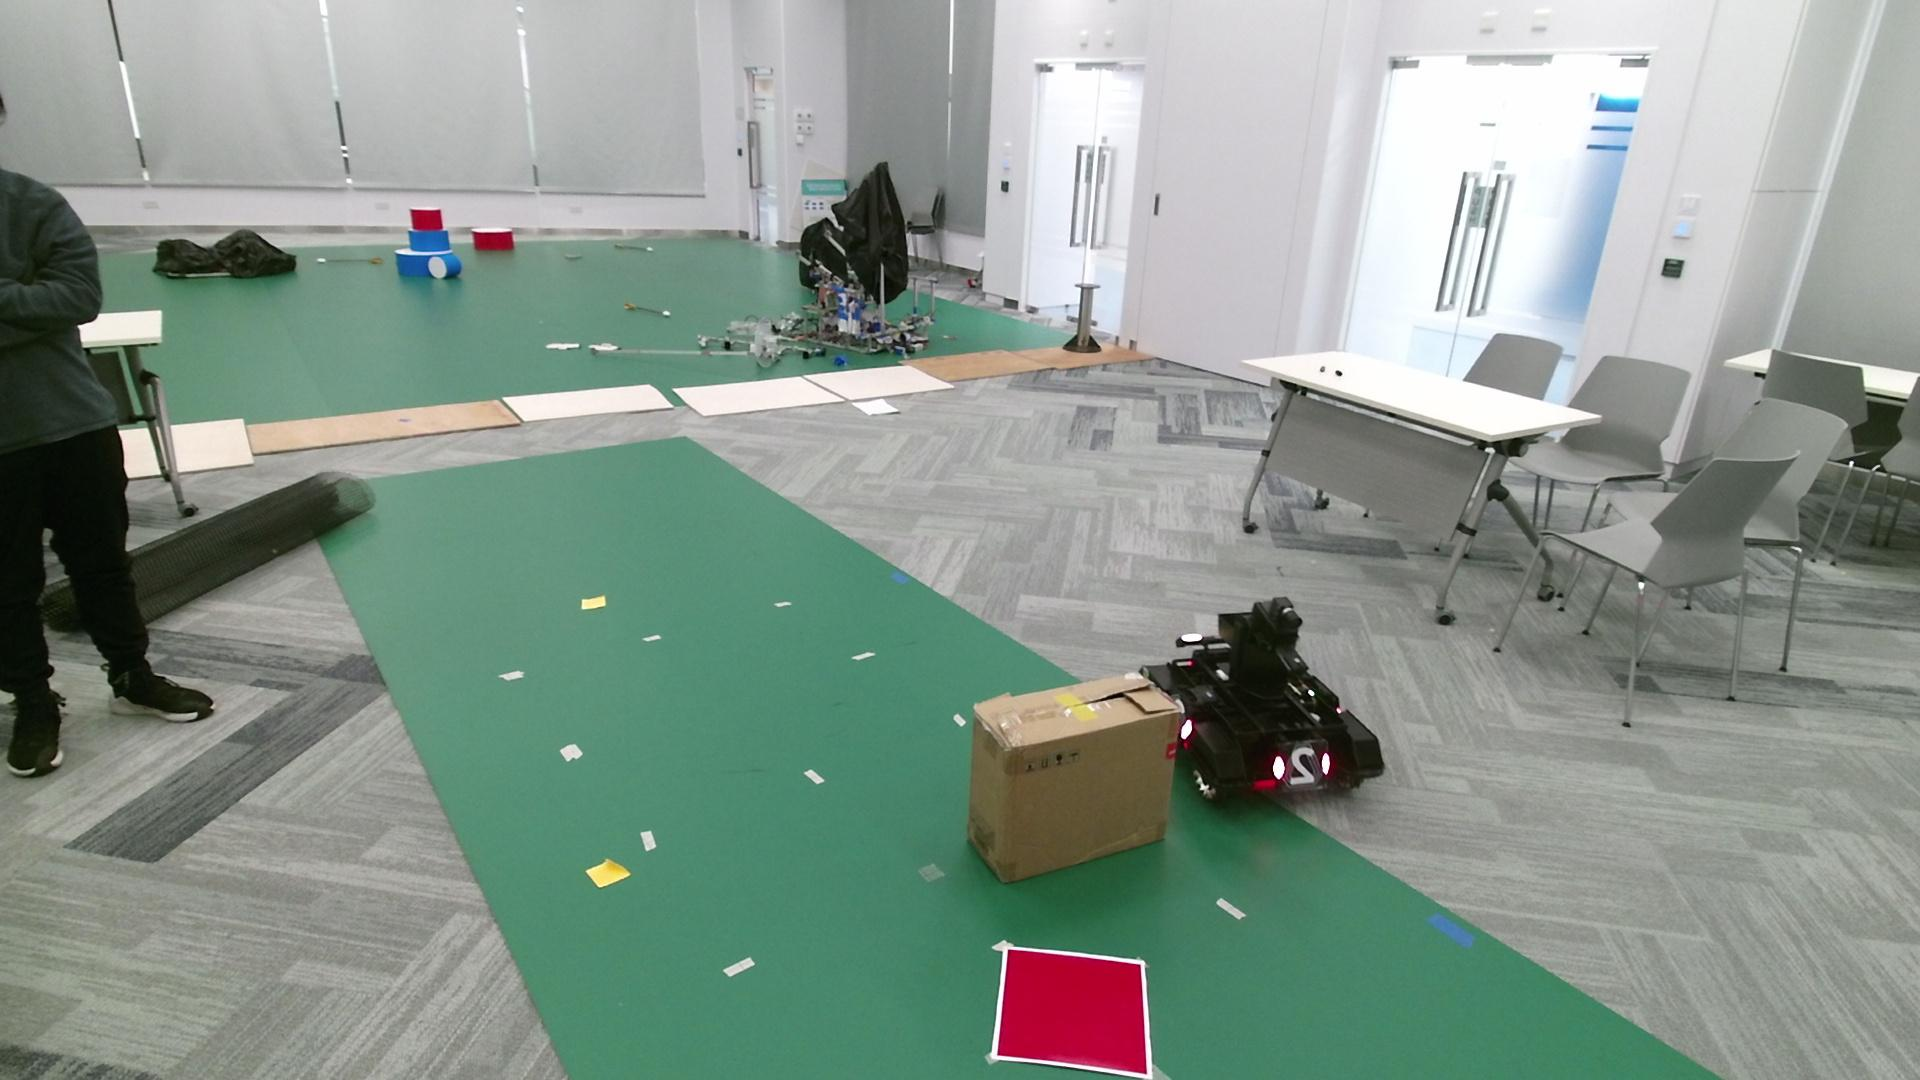robot: (1139, 593, 1385, 804)
